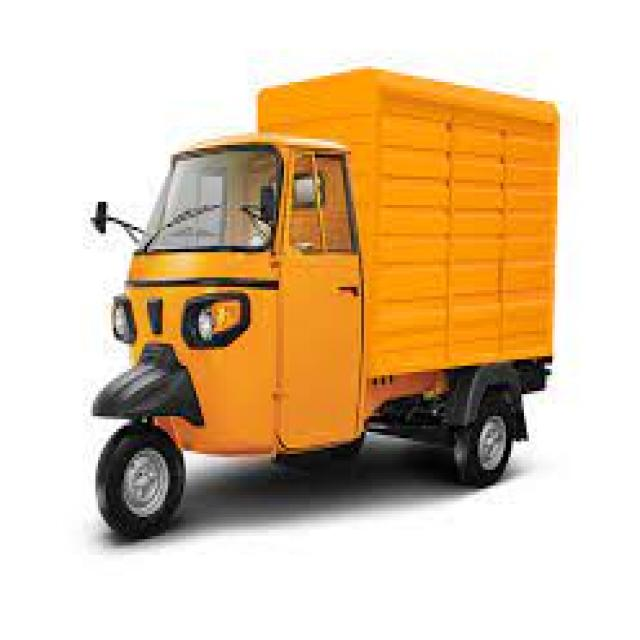Tempo: (77, 43, 576, 535)
